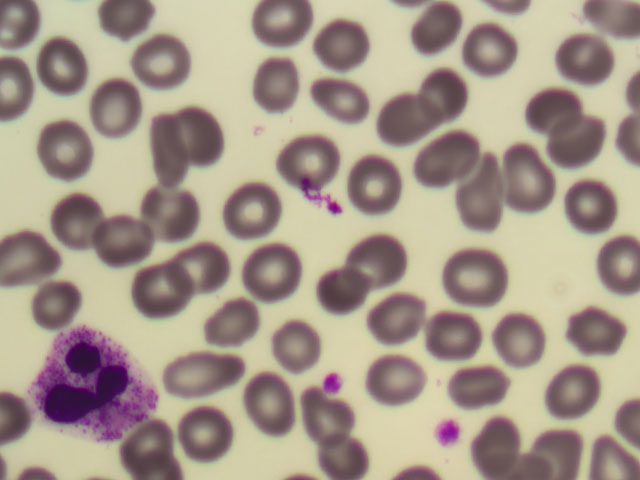Platelets: (431, 417, 462, 448), (318, 367, 348, 397)
RBC: (29, 35, 86, 91), (84, 76, 141, 132), (132, 31, 189, 87), (172, 104, 229, 160), (134, 116, 191, 172), (246, 54, 303, 110), (318, 18, 375, 74), (317, 71, 374, 127), (281, 136, 338, 192), (223, 183, 280, 239), (148, 182, 205, 238), (94, 219, 151, 275), (45, 192, 102, 248), (34, 128, 91, 184), (7, 237, 64, 293), (24, 272, 81, 328), (134, 263, 191, 319), (178, 242, 235, 298), (210, 294, 267, 350), (171, 342, 228, 398), (174, 403, 231, 459), (125, 418, 182, 474), (246, 374, 303, 430), (270, 309, 327, 365), (245, 244, 302, 300), (323, 267, 380, 323), (355, 241, 412, 297), (370, 292, 427, 348), (367, 350, 424, 406), (422, 309, 479, 365), (447, 247, 504, 303), (492, 310, 549, 366), (447, 354, 504, 410), (464, 422, 521, 478), (529, 424, 586, 480), (543, 357, 600, 413), (562, 300, 619, 356), (583, 235, 640, 291), (563, 177, 620, 233), (501, 151, 558, 207), (458, 172, 515, 228), (414, 130, 471, 186), (354, 154, 411, 210), (383, 96, 440, 152), (409, 66, 466, 122), (461, 22, 518, 78), (412, 7, 469, 63), (557, 31, 614, 87), (582, 1, 639, 57), (523, 75, 580, 131), (550, 112, 607, 168), (97, 1, 154, 56), (256, 1, 313, 56)
WBC: (31, 324, 156, 440)
